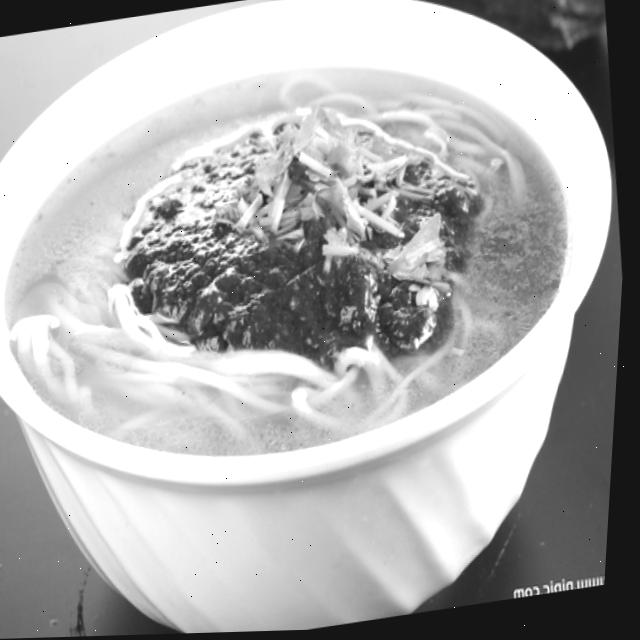面条主食: (0, 17, 602, 510)
